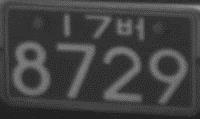1: (56, 12, 77, 36)
2: (103, 44, 144, 102)
7: (55, 40, 95, 98), (84, 12, 112, 39)
8: (12, 38, 50, 96)
9: (148, 46, 189, 105)
버: (115, 15, 145, 41)
